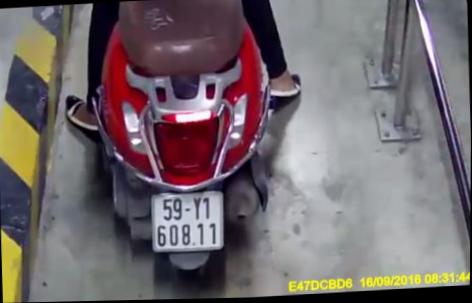LP: (152, 190, 226, 254)
